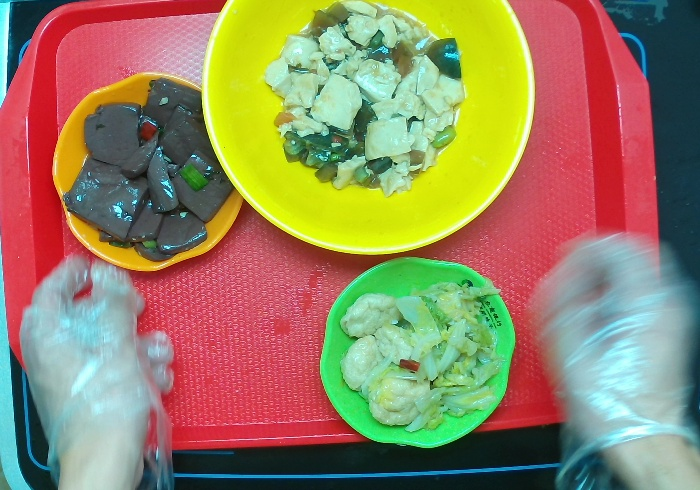YKMZ-Huang_Se_Tang_Wan: (200, 1, 534, 258)
YKMZ-Ju_Se_Ao_Bian_Wan: (49, 70, 239, 278)
YKMZ-Lv_Se_Ao_Bian_Wan: (315, 255, 518, 451)
